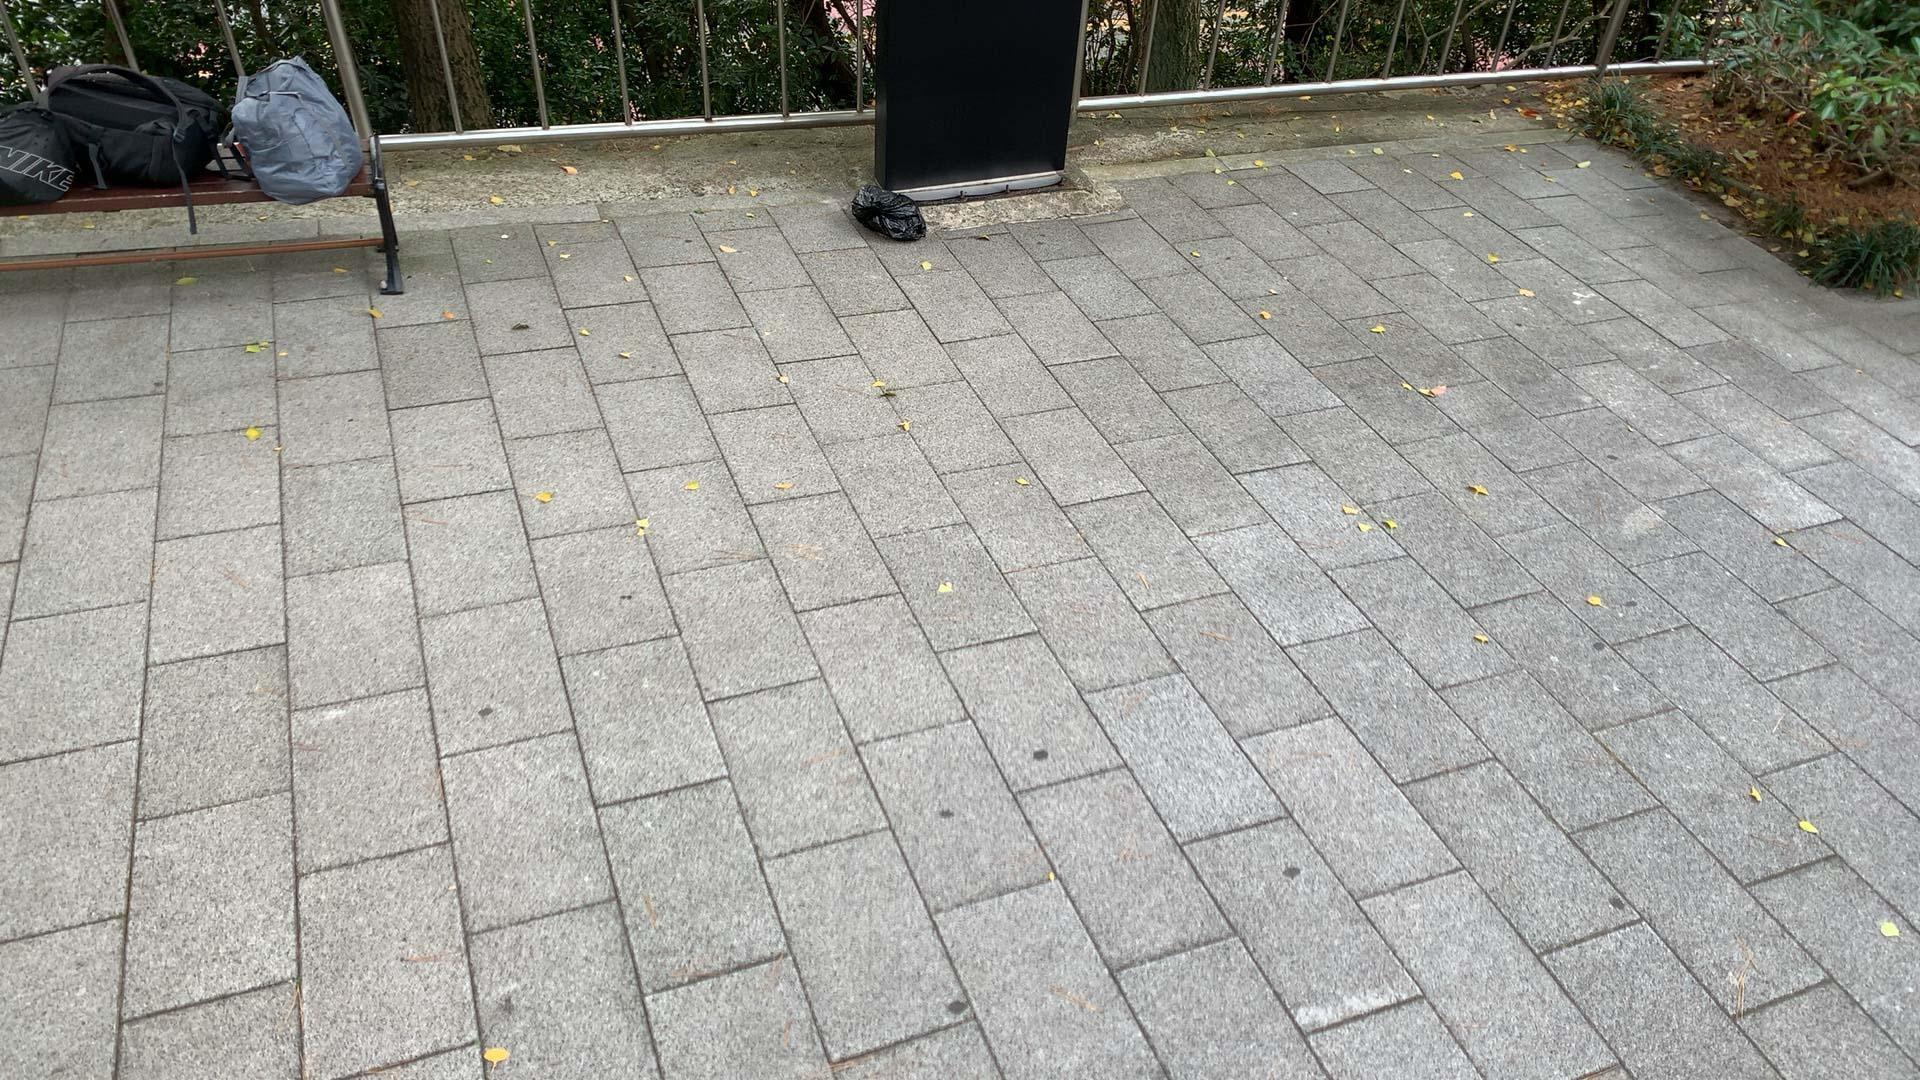black_bag: (835, 170, 932, 249)
